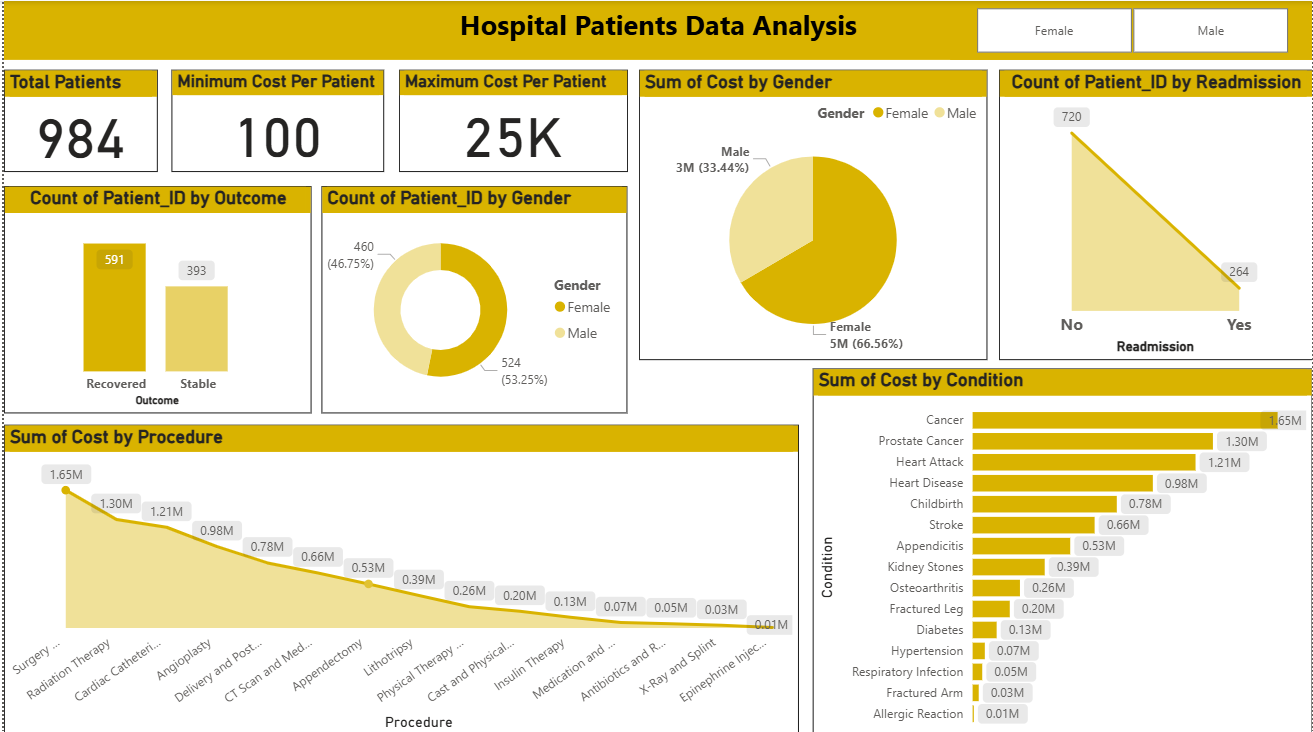

The page's visual inventory and layout, read from the dashboard file:
{"tool":"powerbi","page":{"name":"Page 1","canvas":[1280,720],"ordinal":0},"visuals":[{"type":"card","title":"Total Patients","fields":{"Values":["CountNonNull(hospital data analysis.Patient_ID)"]},"box":[0,67.3,150.4,100.3],"z":0},{"type":"pieChart","fields":{"Category":["hospital data analysis.Gender"],"Y":["Sum(hospital data analysis.Cost)"]},"box":[621.2,67.3,341.2,283.7],"z":1000},{"type":"card","title":"Minimum Cost Per Patient","fields":{"Values":["Min(hospital data analysis.Cost)"]},"box":[163.9,67.3,207.9,100.3],"z":2000},{"type":"card","title":"Maximum Cost Per Patient","fields":{"Values":["Max(hospital data analysis.Cost)"]},"box":[386.4,67.3,223.8,100.3],"z":3000},{"type":"barChart","fields":{"Category":["hospital data analysis.Condition"],"Y":["Sum(hospital data analysis.Cost)"]},"box":[791.2,359.5,489.1,360.7],"z":4000},{"type":"areaChart","fields":{"Category":["hospital data analysis.Readmission"],"Y":["CountNonNull(hospital data analysis.Patient_ID)"]},"box":[973.4,67.3,306.9,283.7],"z":5000},{"type":"columnChart","fields":{"Category":["hospital data analysis.Outcome"],"Y":["CountNonNull(hospital data analysis.Patient_ID)"]},"box":[0,181,300.8,222.6],"z":6000},{"type":"donutChart","fields":{"Category":["hospital data analysis.Gender"],"Y":["CountNonNull(hospital data analysis.Patient_ID)"]},"box":[310.6,181,299.6,222.6],"z":7000},{"type":"areaChart","fields":{"Category":["hospital data analysis.Procedure"],"Y":["Sum(hospital data analysis.Cost)"]},"box":[0,414.5,777.7,305.7],"z":8000},{"type":"textbox","box":[0,0,1280.3,57.5],"z":8001},{"type":"slicer","fields":{"Values":["hospital data analysis.Gender"]},"box":[925.7,0,354.6,57.5],"z":8002}]}

Visuals, with their boxes in screenshot pixels (x1, y1, x2, y2), scaled from the page's 1280x720 canvas onto the 1313x732 screenshot:
"Total Patients" card: Rect(0, 68, 154, 170)
pieChart - hospital data analysis.Gender x Sum(hospital data analysis.Cost): Rect(637, 68, 987, 357)
"Minimum Cost Per Patient" card: Rect(168, 68, 381, 170)
"Maximum Cost Per Patient" card: Rect(396, 68, 626, 170)
barChart - hospital data analysis.Condition x Sum(hospital data analysis.Cost): Rect(812, 365, 1312, 731)
areaChart - hospital data analysis.Readmission x CountNonNull(hospital data analysis.Patient_ID): Rect(998, 68, 1312, 357)
columnChart - hospital data analysis.Outcome x CountNonNull(hospital data analysis.Patient_ID): Rect(0, 184, 309, 410)
donutChart - hospital data analysis.Gender x CountNonNull(hospital data analysis.Patient_ID): Rect(319, 184, 626, 410)
areaChart - hospital data analysis.Procedure x Sum(hospital data analysis.Cost): Rect(0, 421, 798, 731)
textbox: Rect(0, 0, 1312, 58)
slicer - hospital data analysis.Gender: Rect(950, 0, 1312, 58)
